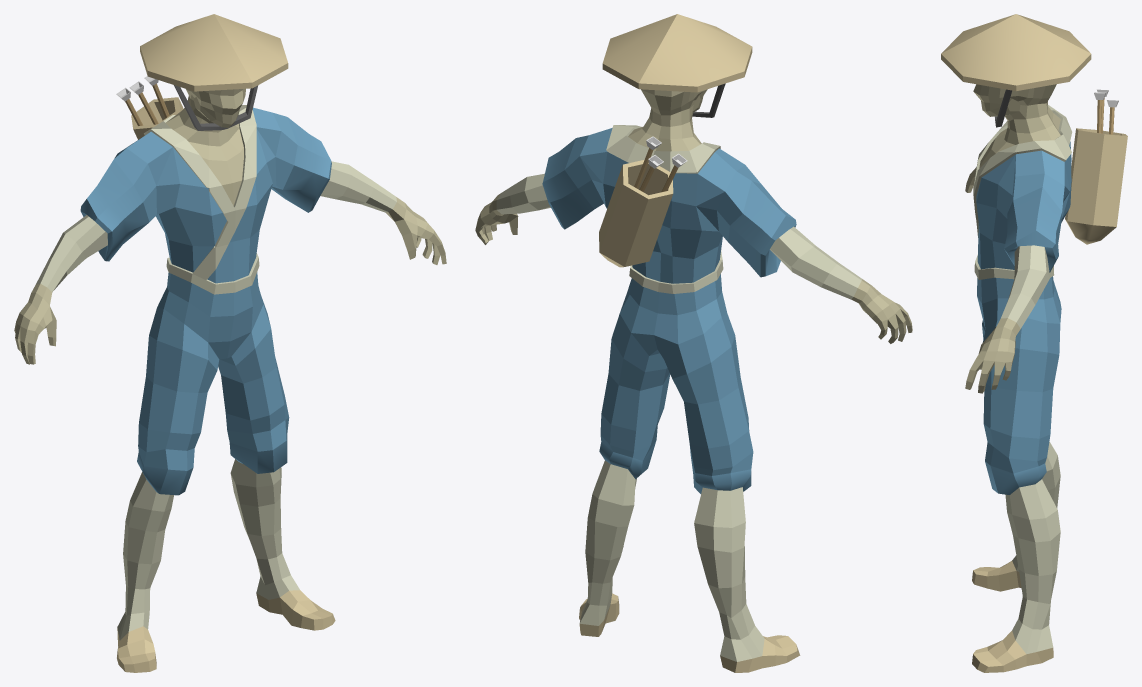
File: sketchArcher.fbx
3 renders of one model, left to right at view 1: azimuth 30°, elevation 25°; view 2: azimuth 150°, elevation 25°; view 3: azimuth 270°, elevation 25°, orthographic. The views are drawn at different scales.
Visible parts, largest first — view 1: Archer; view 2: Archer; view 3: Archer.
Part boxes in pixels (x1,y1,x2,y2): Archer: (14,14,446,672); Archer: (475,14,912,672); Archer: (941,14,1127,672).
Bounding box in the file's own units: 11 × 15.65 × 4.34.
